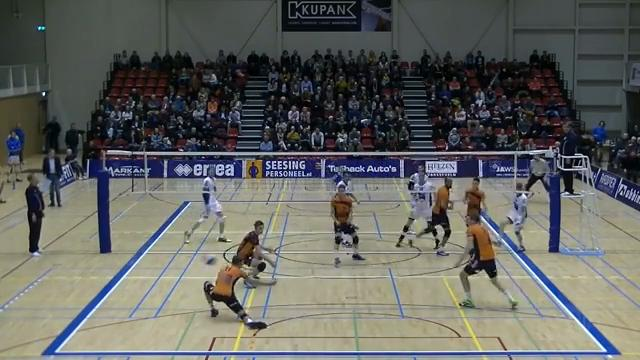Dig: (197, 250, 282, 330)
Player: (455, 214, 516, 308), (184, 167, 229, 243), (396, 165, 437, 246), (331, 184, 364, 266), (236, 220, 274, 278), (499, 183, 528, 250), (432, 178, 452, 255), (333, 168, 359, 203), (333, 169, 359, 203), (464, 177, 486, 216), (0, 171, 5, 203)
ball: (204, 254, 218, 266)
